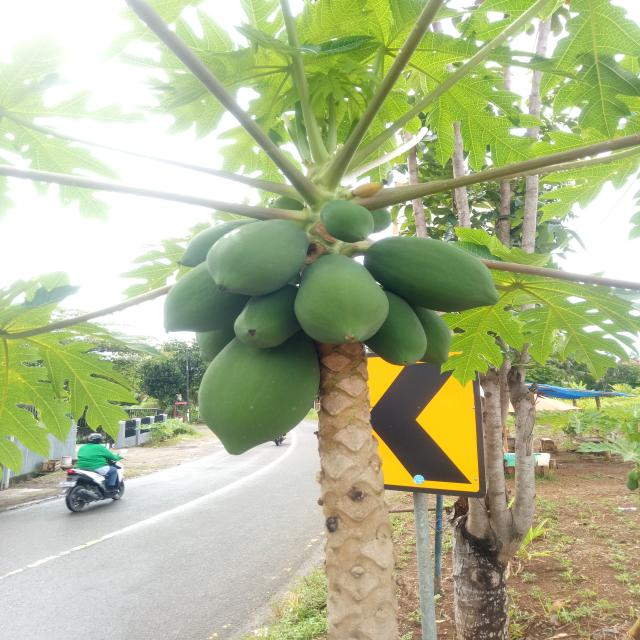Pepaya unrippen: (196, 346, 321, 454), (366, 241, 498, 318), (217, 214, 308, 295), (305, 258, 377, 344), (163, 274, 238, 337), (323, 200, 376, 249)
